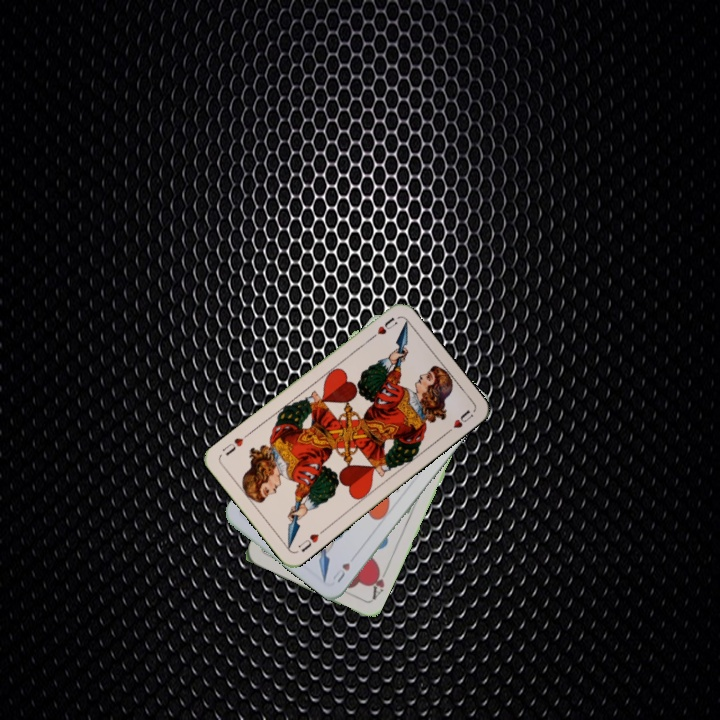HA: (367, 563, 391, 603)
HU: (365, 313, 400, 343), (294, 525, 327, 554), (328, 558, 353, 585)
